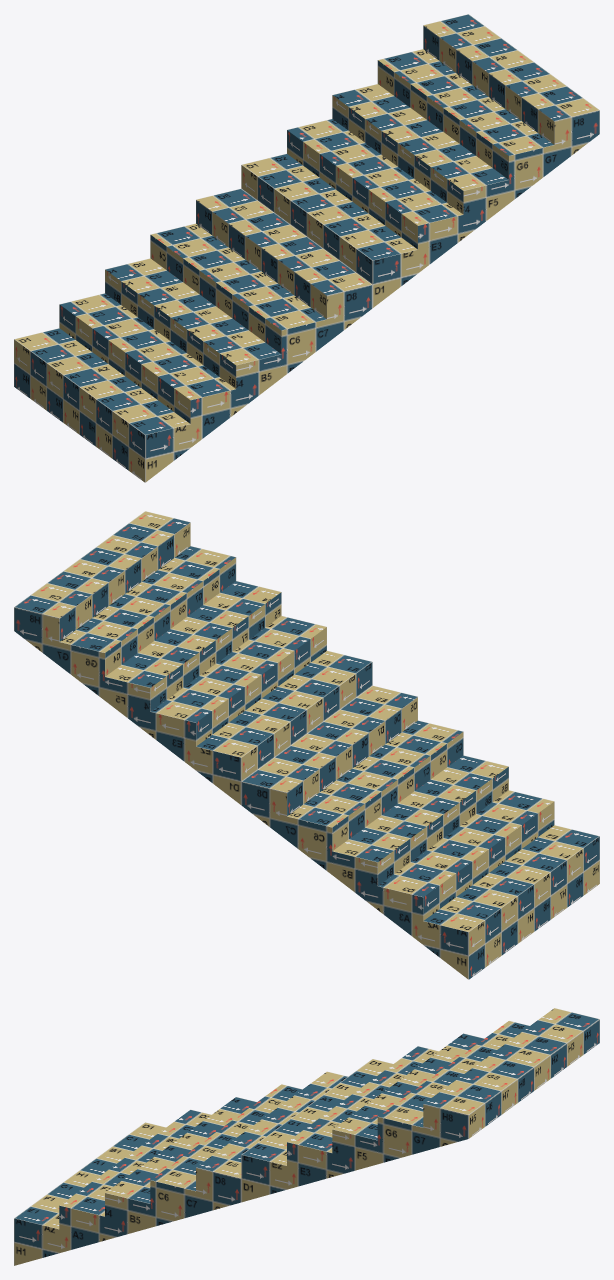
The model's file is STAIR_Straight_SlopingUnderside.fbx.
3 renders of one model, top to bottom at view 1: azimuth 30°, elevation 25°; view 2: azimuth 150°, elevation 25°; view 3: azimuth 330°, elevation 25°, orthographic.
Parts seen in each view (by area): view 1: STAIR_Straight_SlopingUnderside; view 2: STAIR_Straight_SlopingUnderside; view 3: STAIR_Straight_SlopingUnderside.
Boxes of the visible parts, bbox=[...] form: STAIR_Straight_SlopingUnderside: bbox=[14, 14, 599, 482]; STAIR_Straight_SlopingUnderside: bbox=[14, 511, 599, 979]; STAIR_Straight_SlopingUnderside: bbox=[14, 1008, 599, 1265].
Bounding box in the file's own units: 400 × 220 × 200.
Materials: 2 (2 with a texture image).
